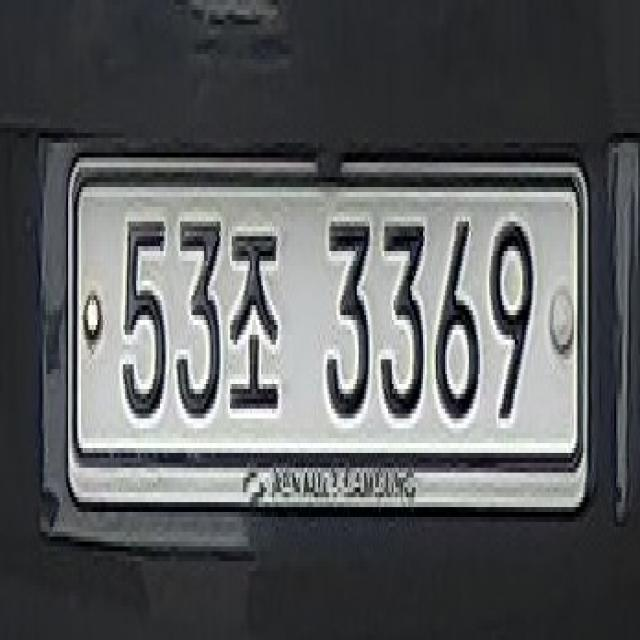3: (375, 187, 436, 463), (168, 202, 226, 438), (318, 202, 372, 438)
5: (116, 207, 176, 418)
6: (432, 192, 484, 473)
9: (482, 202, 542, 468)
jo: (219, 212, 285, 423)
license_plate: (57, 143, 596, 527)
